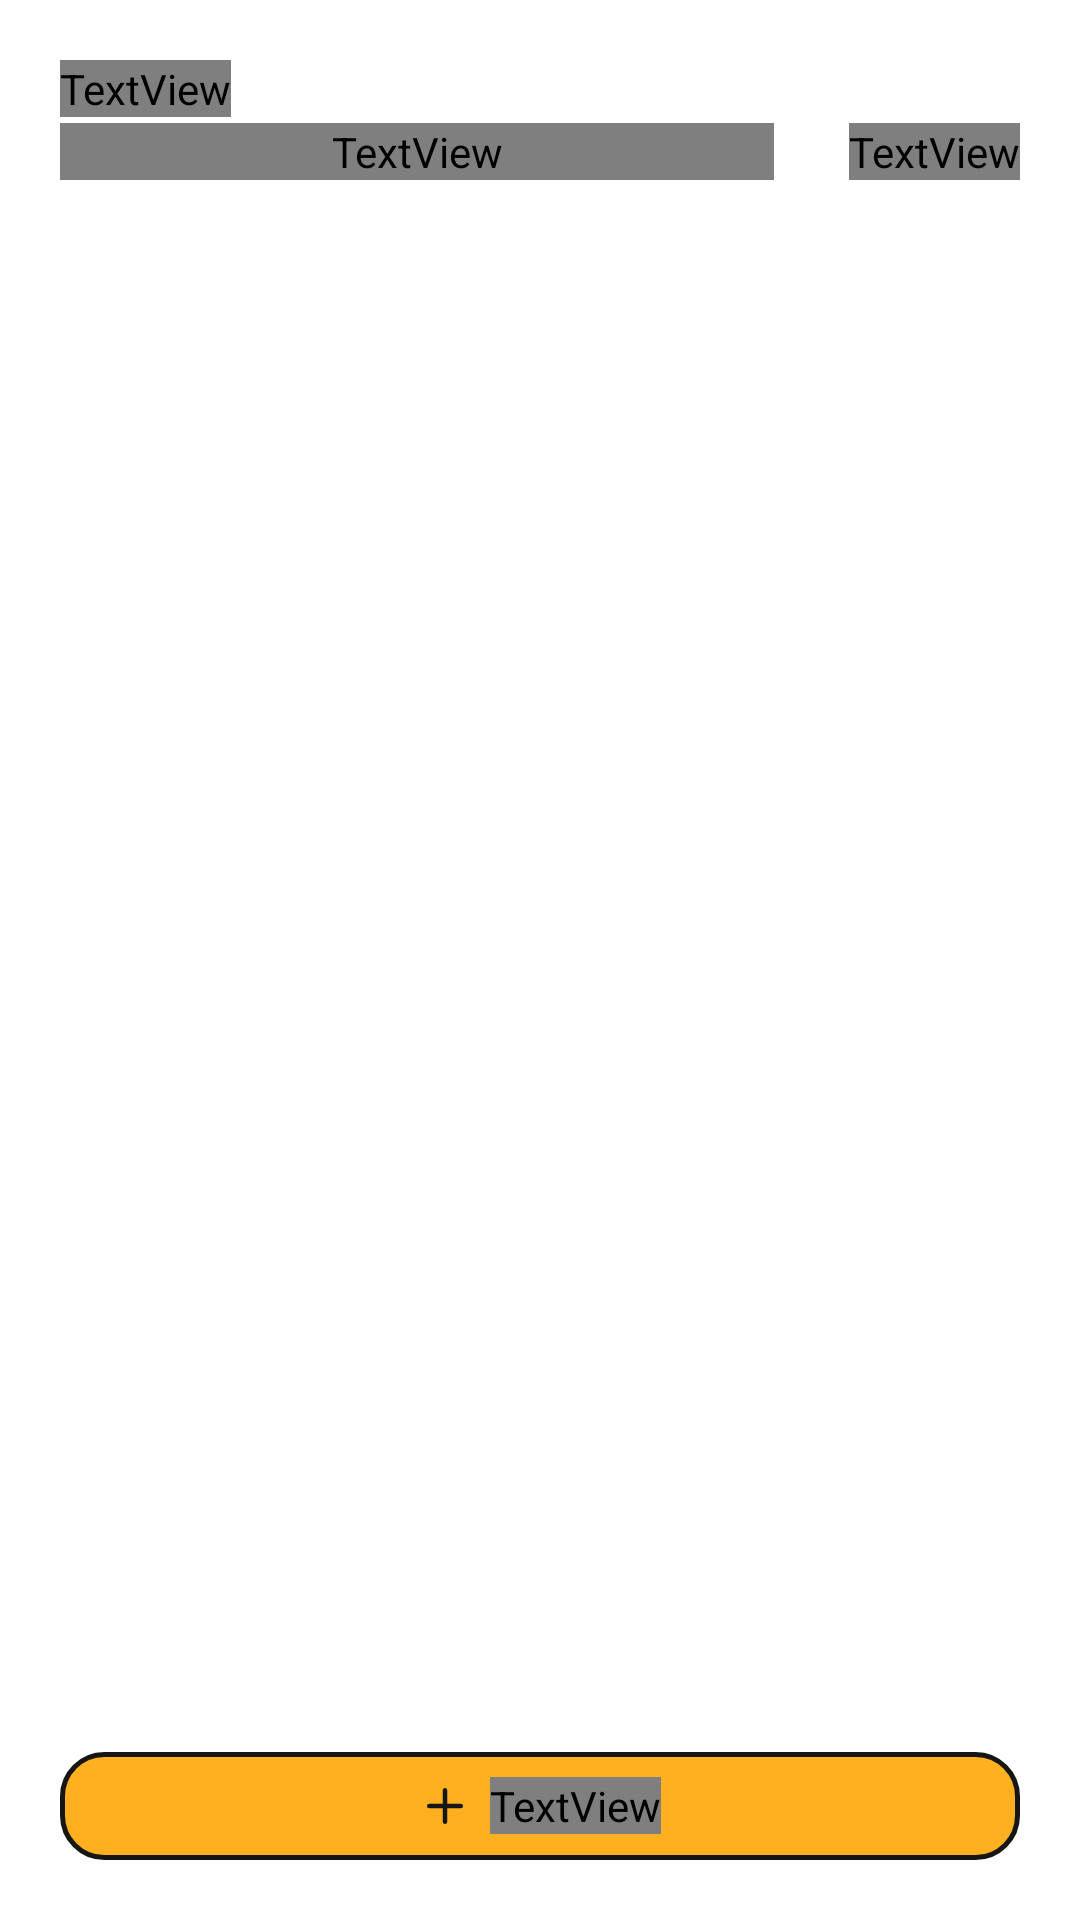

Locate icon controls on the screen. Image size 1080 x 1920, boxes as (x1, y1, x2, y2).
widget add: (427, 1788, 463, 1824)
